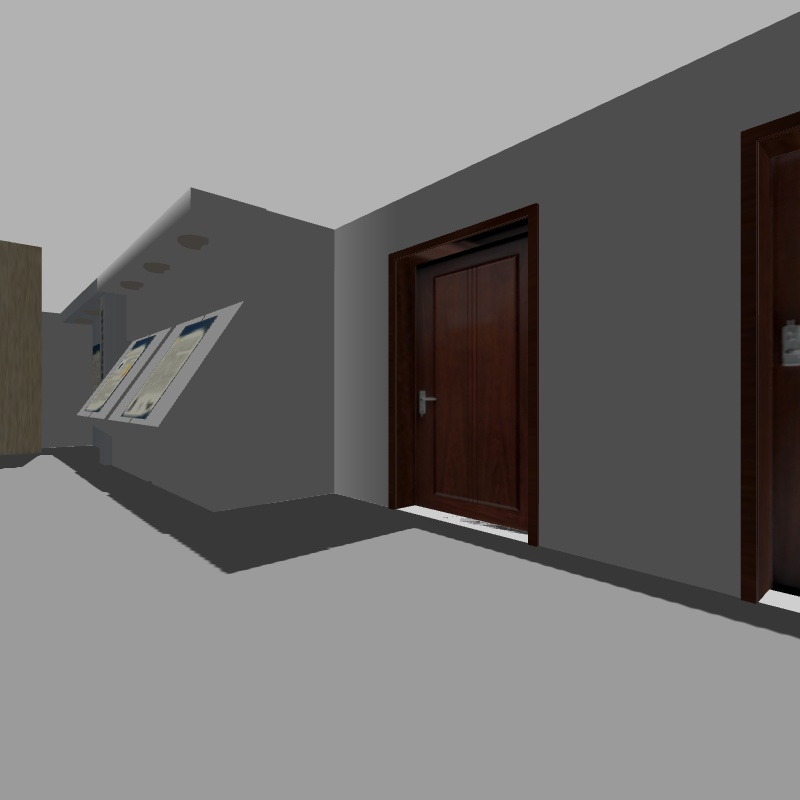handle: (777, 320, 800, 373), (409, 386, 438, 417)
